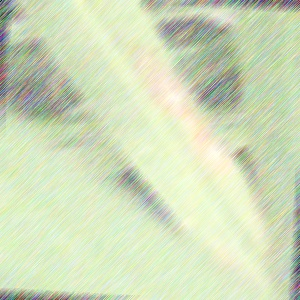Brown_Spot: (125, 42, 198, 118), (186, 129, 238, 174)
